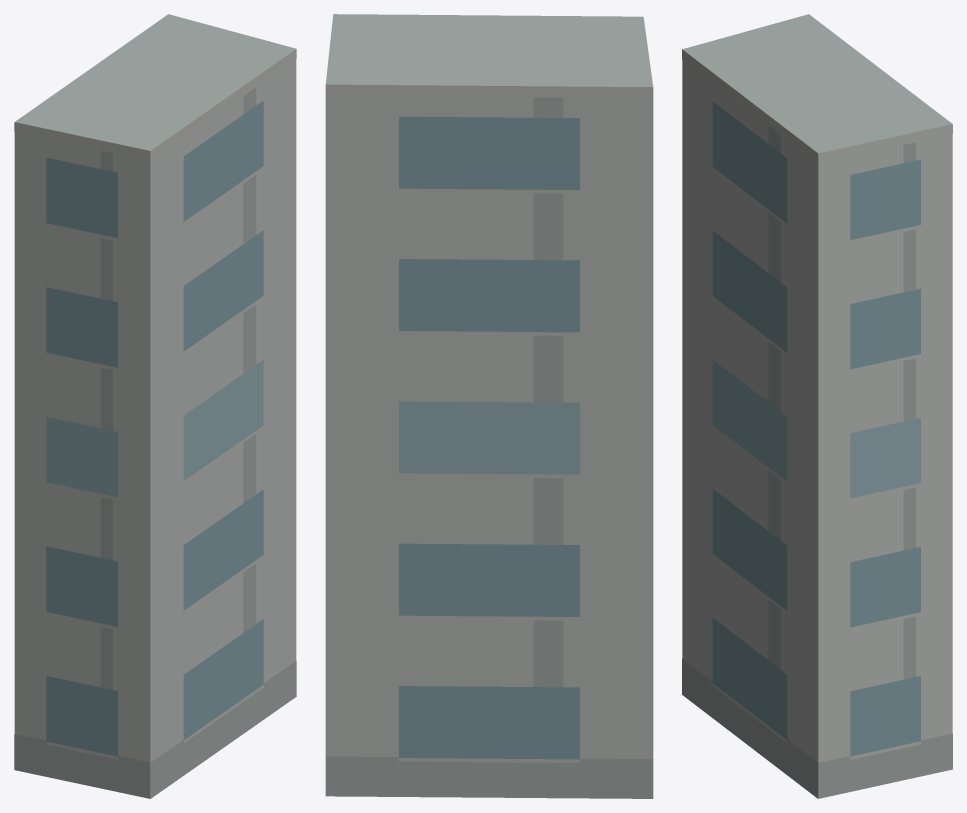
The model's file is survey-upis-32578055.glb.
3 views of the same model, side by side, from view 1: azimuth 30°, elevation 25°; view 2: azimuth 150°, elevation 25°; view 3: azimuth 270°, elevation 25° (orthographic). The views are drawn at different scales.
Visible parts, largest first — view 1: survey-upis-32578055.tmp; view 2: survey-upis-32578055.tmp; view 3: survey-upis-32578055.tmp.
Boxes of the visible parts, x1,y1,x2,y2 form: survey-upis-32578055.tmp: (14, 14, 296, 798); survey-upis-32578055.tmp: (325, 14, 653, 798); survey-upis-32578055.tmp: (682, 14, 952, 798).
Size of the model in its own units: 7.07 by 15.25 by 5.8.
